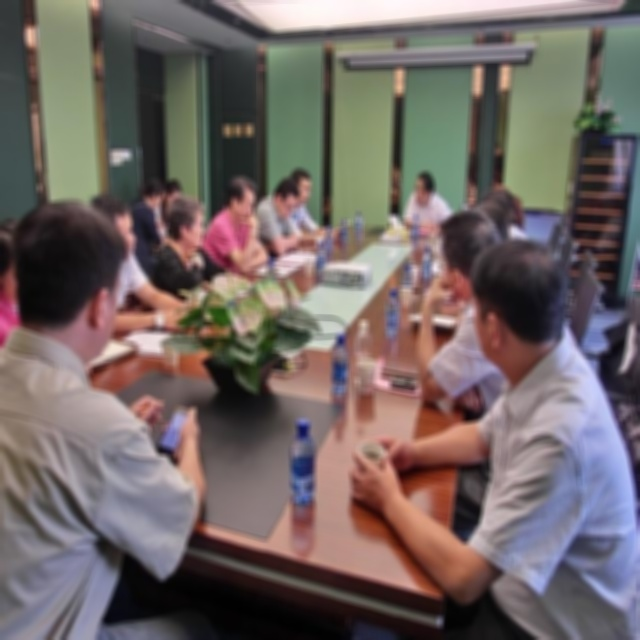Sin_Casco_Mascarrilla: (472, 238, 565, 366), (414, 171, 435, 206)
